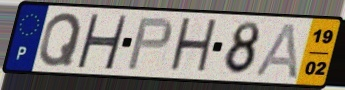8: (220, 20, 261, 78)
A: (252, 21, 300, 81)
H: (166, 15, 220, 77), (74, 12, 130, 71)
P: (124, 16, 175, 72)
Q: (37, 11, 85, 68)
